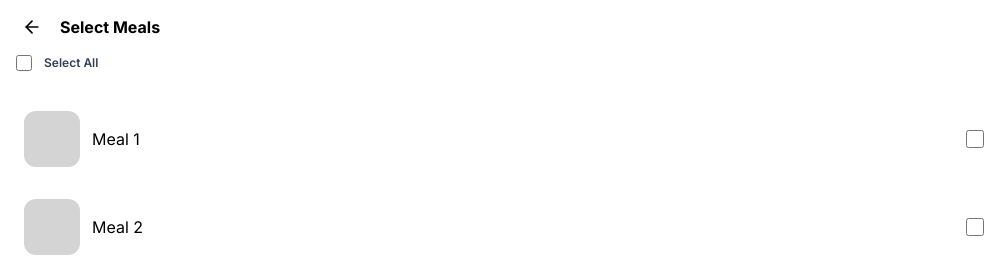
it: EditMeal Component › selects and deselects all meals when "Select All" is clicked
Click the text "Select All".
click(71, 62)  # box [44, 55, 98, 70]
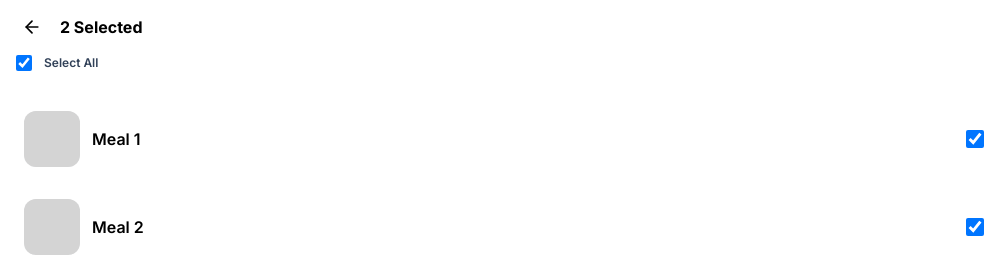
Now the text "2 Selected" is shown, box [60, 16, 142, 38]
Click the text "Select All".
click(71, 62)  # box [44, 55, 98, 70]
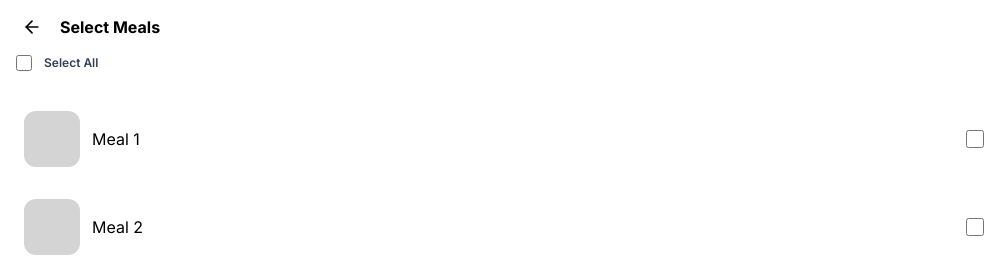
Now the text "2 Selected" is gone
